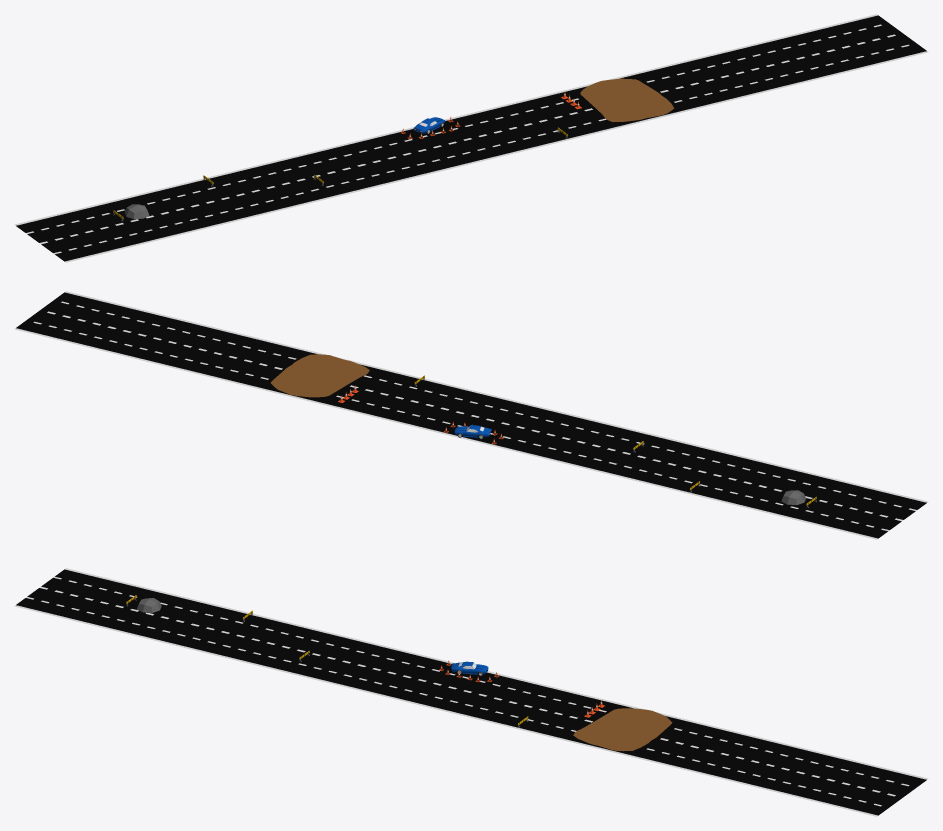
File: bölüm3.fbx
The picture shows the model from 3 angles, top to bottom: view 1: azimuth 30°, elevation 25°; view 2: azimuth 150°, elevation 25°; view 3: azimuth 330°, elevation 25°; orthographic projection.
Parts seen in each view (by area): view 1: Plane, Circle; view 2: Plane, Circle; view 3: Plane, Circle, Cone.
Boxes of the visible parts, x1,y1,x2,y2 form: Plane: (14,14,928,262); Circle: (580,78,674,121); Plane: (14,291,928,539); Circle: (271,354,369,397); Plane: (14,568,928,816); Circle: (573,708,672,751); Cone: (439,660,498,682).
Bounding box in the file's own units: 3800 × 71.69 × 399.
